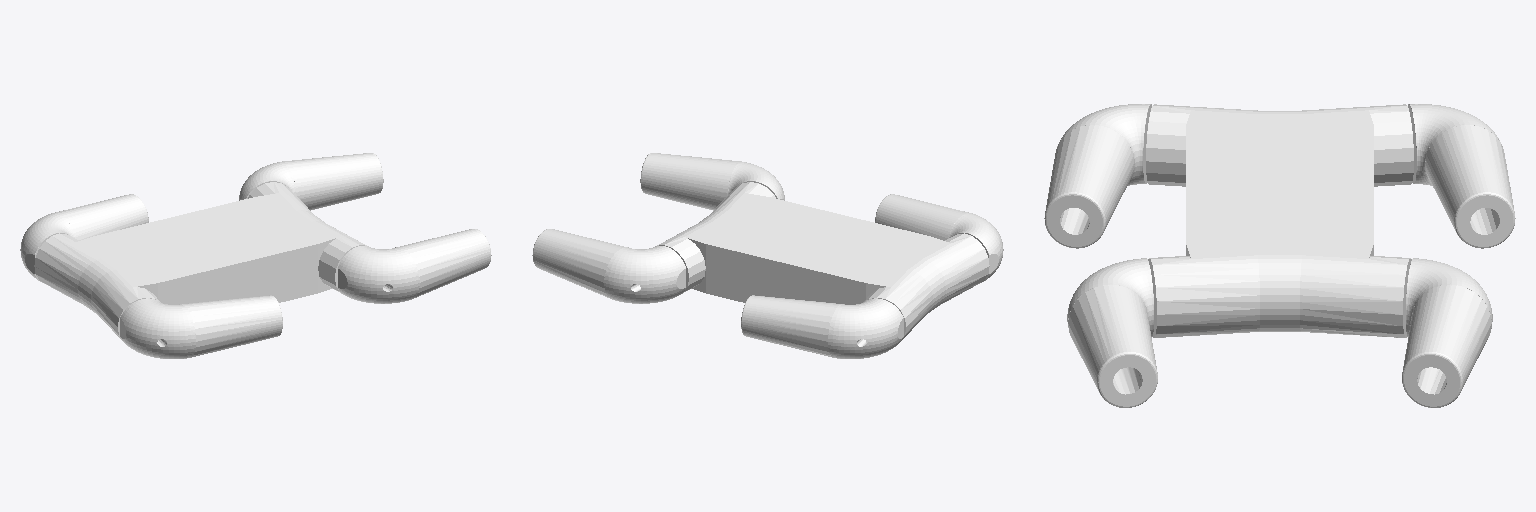
robot.urdf — 8_degree:
<?xml version="1.0" encoding="utf-8"?>
<!-- This URDF was automatically created by SolidWorks to URDF Exporter! Originally created by [author] ([email redacted]) 
     Commit Version: 1.5.1-0-g916b5db  Build Version: 1.5.7152.31018
     For more information, please see http://wiki.ros.org/sw_urdf_exporter -->
<robot
  name="8_degree">
  <link
    name="base_link">
    <inertial>
      <origin
        xyz="0 3.0618E-08 3.4694E-18"
        rpy="0 0 0" />
      <mass
        value="2.803" />
      <inertia
        ixx="0.010230065"
        ixy="-3.0407E-18"
        ixz="-8.6981E-11"
        iyy="0.037802054"
        iyz="1.8393E-19"
        izz="0.04567062" />
    </inertial>
    <visual>
      <origin
        xyz="0 0 0"
        rpy="0 0 0" />
      <geometry>
        <mesh
          filename="package://8_degree/meshes/base_link.STL" />
      </geometry>
      <material
        name="">
        <color
          rgba="1 1 1 1" />
      </material>
    </visual>
    <collision>
      <origin
        xyz="0 0 0"
        rpy="0 0 0" />
      <geometry>
        <mesh
          filename="package://8_degree/meshes/base_link.STL" />
      </geometry>
    </collision>
  </link>
  <link
    name="left_fromt_link">
    <inertial>
      <origin
        xyz="-2.656E-08 0.059088 -0.02797"
        rpy="0 0 0" />
      <mass
        value="0.0834" />
      <inertia
        ixx="0.000221648"
        ixy="5.253E-10"
        ixz="7.1864E-10"
        iyy="0.000045676"
        iyz="-0.419E-05"
        izz="0.000221277" />
    </inertial>
    <visual>
      <origin
        xyz="0 0 0"
        rpy="0 0 0" />
      <geometry>
        <mesh
          filename="package://8_degree/meshes/left_fromt_link.STL" />
      </geometry>
      <material
        name="">
        <color
          rgba="1 1 1 1" />
      </material>
    </visual>
    <collision>
      <origin
        xyz="0 0 0"
        rpy="0 0 0" />
      <geometry>
        <mesh
          filename="package://8_degree/meshes/left_fromt_link.STL" />
      </geometry>
    </collision>
  </link>
  <joint
    name="left_front_leg"
    type="continuous">
    <origin
      xyz="0.14433 0.102 0"
      rpy="1.5708 1.5708 0" />
    <parent
      link="base_link" />
    <child
      link="left_fromt_link" />
    <axis
      xyz="0 0.13917 -0.99027" />
    <limit
      effort="5"
      velocity="487" />
  </joint>
  <link
    name="right_front_link">
    <inertial>
      <origin
        xyz="2.656E-08 0.059088 0.02797"
        rpy="0 0 0" />
      <mass
        value="0.0834" />
      <inertia
        ixx="0.000221648"
        ixy="-5.253E-10"
        ixz="7.1864E-10"
        iyy="0.000045676"
        iyz="0.419E-05"
        izz="0.000221277" />
    </inertial>
    <visual>
      <origin
        xyz="0 0 0"
        rpy="0 0 0" />
      <geometry>
        <mesh
          filename="package://8_degree/meshes/right_front_link.STL" />
      </geometry>
      <material
        name="">
        <color
          rgba="1 1 1 1" />
      </material>
    </visual>
    <collision>
      <origin
        xyz="0 0 0"
        rpy="0 0 0" />
      <geometry>
        <mesh
          filename="package://8_degree/meshes/right_front_link.STL" />
      </geometry>
    </collision>
  </link>
  <joint
    name="right_front_leg"
    type="continuous">
    <origin
      xyz="0.14433 -0.102 0"
      rpy="1.5708 1.5708 0" />
    <parent
      link="base_link" />
    <child
      link="right_front_link" />
    <axis
      xyz="0 0.13917 0.99027" />
    <limit
      effort="5"
      velocity="487" />
  </joint>
  <link
    name="right_back_link">
    <inertial>
      <origin
        xyz="5.536E-09 0.054621 0.035921"
        rpy="0 0 0" />
      <mass
        value="0.0834" />
      <inertia
        ixx="0.000221648"
        ixy="-6.4645E-10"
        ixz="6.642E-10"
        iyy="0.000047923"
        iyz="-2.0174E-05"
        izz="0.00021903" />
    </inertial>
    <visual>
      <origin
        xyz="0 0 0"
        rpy="0 0 0" />
      <geometry>
        <mesh
          filename="package://8_degree/meshes/right_back_link.STL" />
      </geometry>
      <material
        name="">
        <color
          rgba="1 1 1 1" />
      </material>
    </visual>
    <collision>
      <origin
        xyz="0 0 0"
        rpy="0 0 0" />
      <geometry>
        <mesh
          filename="package://8_degree/meshes/right_back_link.STL" />
      </geometry>
    </collision>
  </link>
  <joint
    name="right_back_leg"
    type="continuous">
    <origin
      xyz="-0.14433 -0.102 0"
      rpy="1.7104 1.5708 0" />
    <parent
      link="base_link" />
    <child
      link="right_back_link" />
    <axis
      xyz="0 0 1" />
    <limit
      effort="5"
      velocity="487" />
  </joint>
  <link
    name="left_back_link">
    <inertial>
      <origin
        xyz="-5.536E-09 0.04909 -0.043173"
        rpy="0 0 0" />
      <mass
        value="0.0834" />
      <inertia
        ixx="0.000221648"
        ixy="7.326E-10"
        ixz="5.6777E-10"
        iyy="0.000056798"
        iyz="0.000042974"
        izz="0.000210155" />
    </inertial>
    <visual>
      <origin
        xyz="0 0 0"
        rpy="0 0 0" />
      <geometry>
        <mesh
          filename="package://8_degree/meshes/left_back_link.STL" />
      </geometry>
      <material
        name="">
        <color
          rgba="1 1 1 1" />
      </material>
    </visual>
    <collision>
      <origin
        xyz="0 0 0"
        rpy="0 0 0" />
      <geometry>
        <mesh
          filename="package://8_degree/meshes/left_back_link.STL" />
      </geometry>
    </collision>
  </link>
  <joint
    name="left_back_leg"
    type="continuous">
    <origin
      xyz="-0.14433 0.102 0"
      rpy="1.5708 1.5708 0" />
    <parent
      link="base_link" />
    <child
      link="left_back_link" />
    <axis
      xyz="0 -0.13917 -0.99027" />
    <limit
      effort="5"
      velocity="487" />
  </joint>
</robot>

--- Render facts (derived) ---
The picture shows the robot from 3 angles, left to right: view 1: azimuth 30°, elevation 25°; view 2: azimuth 150°, elevation 25°; view 3: azimuth 270°, elevation 25°; orthographic projection.
Model 8_degree with 5 links and 4 joints (4 continuous), rooted at base_link, posed all joints at 0.
Visible links, largest first — view 1: base_link, right_back_link, right_front_link, left_fromt_link, left_back_link; view 2: base_link, left_back_link, left_fromt_link, right_front_link, right_back_link; view 3: base_link, right_back_link, left_back_link, left_fromt_link, right_front_link.
Boxes of the visible links, x1=… form: base_link: x1=34, y1=182, x2=366, y2=339; right_back_link: x1=120, y1=295, x2=282, y2=358; right_front_link: x1=338, y1=229, x2=491, y2=303; left_fromt_link: x1=239, y1=153, x2=383, y2=210; left_back_link: x1=20, y1=194, x2=148, y2=282; base_link: x1=657, y1=182, x2=989, y2=339; left_back_link: x1=741, y1=295, x2=903, y2=358; left_fromt_link: x1=532, y1=229, x2=685, y2=303; right_front_link: x1=640, y1=153, x2=784, y2=210; right_back_link: x1=875, y1=194, x2=1003, y2=282; base_link: x1=1146, y1=104, x2=1413, y2=337; right_back_link: x1=1044, y1=104, x2=1151, y2=248; left_back_link: x1=1408, y1=104, x2=1515, y2=248; left_fromt_link: x1=1402, y1=258, x2=1492, y2=407; right_front_link: x1=1067, y1=258, x2=1157, y2=407.
Size in the robot's own frame: 0.4794 by 0.3739 by 0.064 metres.
5 mesh visuals loaded from 5 distinct referenced files (5 binary STL).